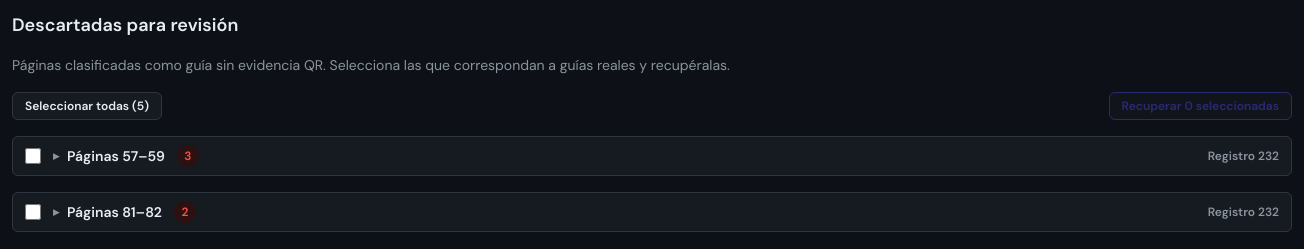
Test case: DescartadasTab — A3 selection (per-page, tri-state group, global) › global "Seleccionar todas (N)" selects every page across groups
Click the button with class "descartadas-tab__select-all". click: (87, 106)
box: [12, 92, 162, 120]
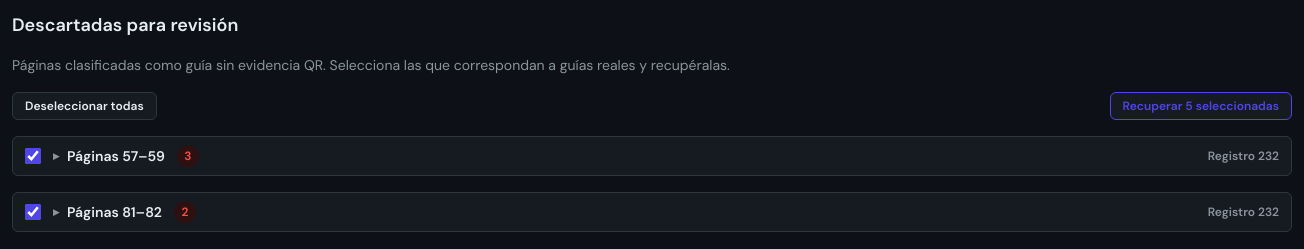
Expected: the button with class "descartadas-tab__bulk-btn" shows "5", [1110, 92, 1292, 120]
Expected: the 1st checkbox with class "descartadas-tab__group-checkbox" is checked, [25, 148, 41, 164]
Expected: the 2nd checkbox with class "descartadas-tab__group-checkbox" is checked, [25, 204, 41, 220]
